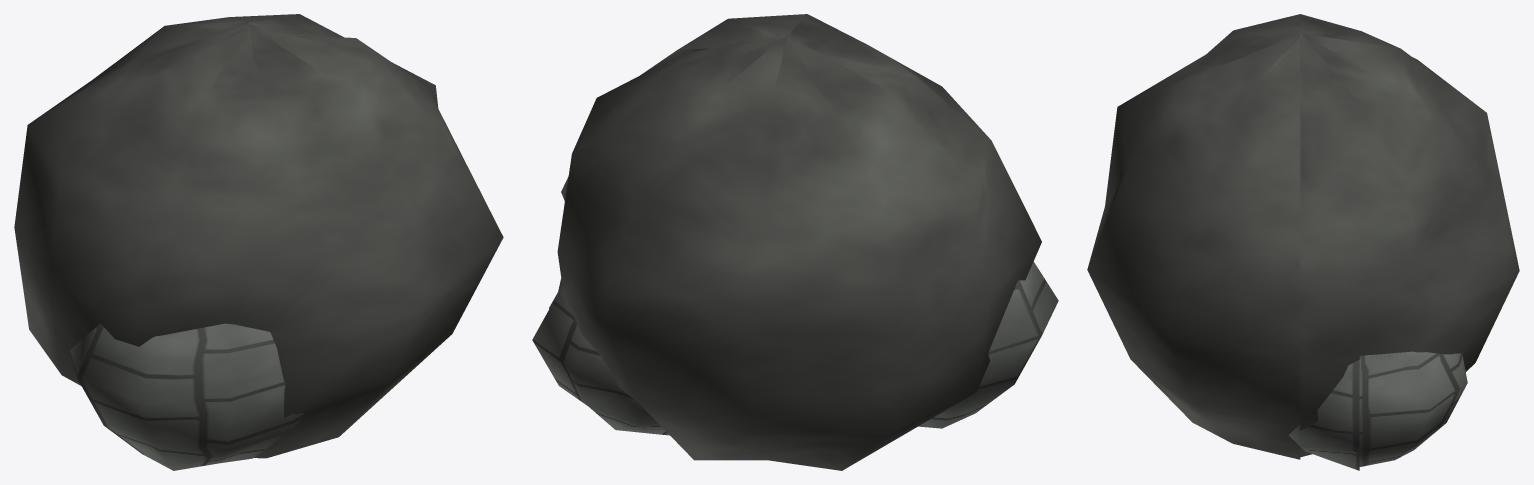
File: rock_v4.obj
The picture shows the model from 3 angles, left to right: view 1: azimuth 30°, elevation 25°; view 2: azimuth 150°, elevation 25°; view 3: azimuth 270°, elevation 25°; orthographic projection. The views are drawn at different scales.
Parts seen in each view (by area): view 1: rock_v4; view 2: rock_v4; view 3: rock_v4.
Boxes of the visible parts, x1=… form: rock_v4: x1=14, y1=14, x2=503, y2=470; rock_v4: x1=532, y1=14, x2=1058, y2=470; rock_v4: x1=1087, y1=14, x2=1519, y2=470.
Bounding box in the file's own units: 3.46 × 3.21 × 3.06.
2 materials, 2 textured.
